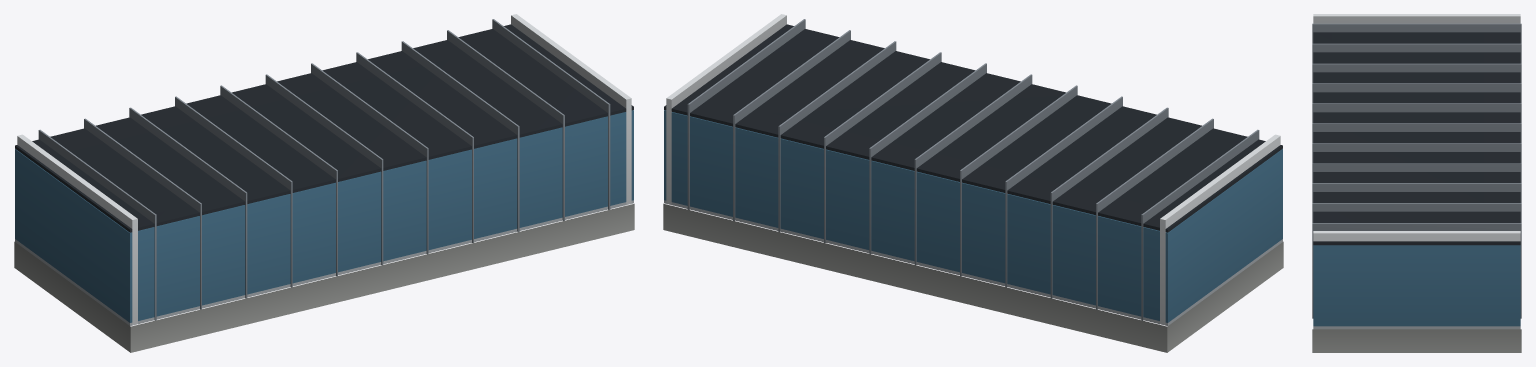
Rendered from conference-foyer.glb.
The picture shows the model from 3 angles, left to right: view 1: azimuth 30°, elevation 25°; view 2: azimuth 150°, elevation 25°; view 3: azimuth 270°, elevation 25°; orthographic projection. The views are drawn at different scales.
Visible parts, largest first — view 1: conference-foyer; view 2: conference-foyer; view 3: conference-foyer.
Boxes of the visible parts, <box> form: conference-foyer: <box>14,14,634,352</box>; conference-foyer: <box>663,14,1283,352</box>; conference-foyer: <box>1312,14,1521,352</box>.
Size of the model in its own units: 60 by 15 by 24.
